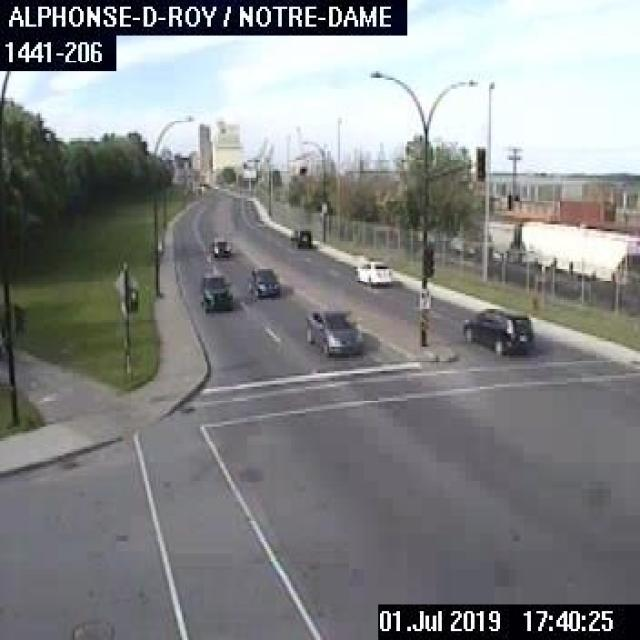vehicle: (462, 306, 533, 356), (304, 304, 362, 356), (198, 269, 234, 315), (350, 255, 393, 288), (246, 262, 280, 298), (207, 232, 234, 258), (293, 229, 311, 247)
